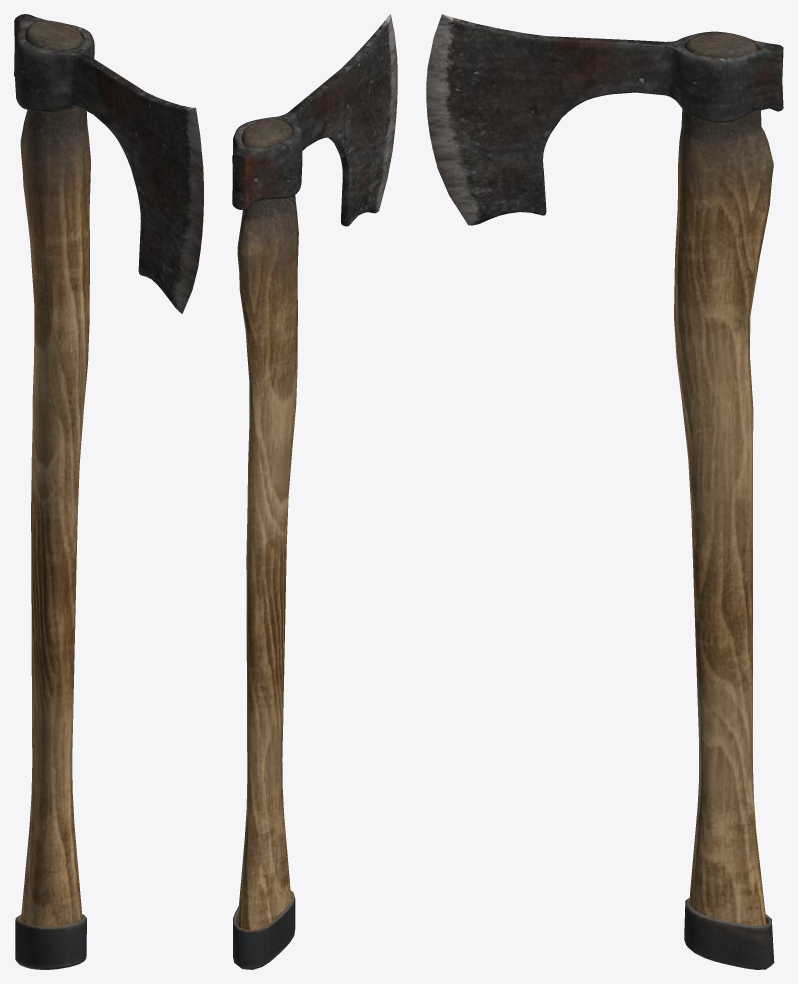
The picture shows the model from 3 angles, left to right: view 1: azimuth 30°, elevation 25°; view 2: azimuth 150°, elevation 25°; view 3: azimuth 270°, elevation 25°; orthographic projection. The views are drawn at different scales.
Visible parts, largest first — view 1: wooden_axe; view 2: wooden_axe; view 3: wooden_axe.
Part boxes in pixels (x1,y1,x2,y2): wooden_axe: (14,14,203,969); wooden_axe: (232,14,397,969); wooden_axe: (426,14,783,969).
Size of the model in its own units: 0.0472 by 0.6303 by 0.2143.
1 material, 1 textured.
